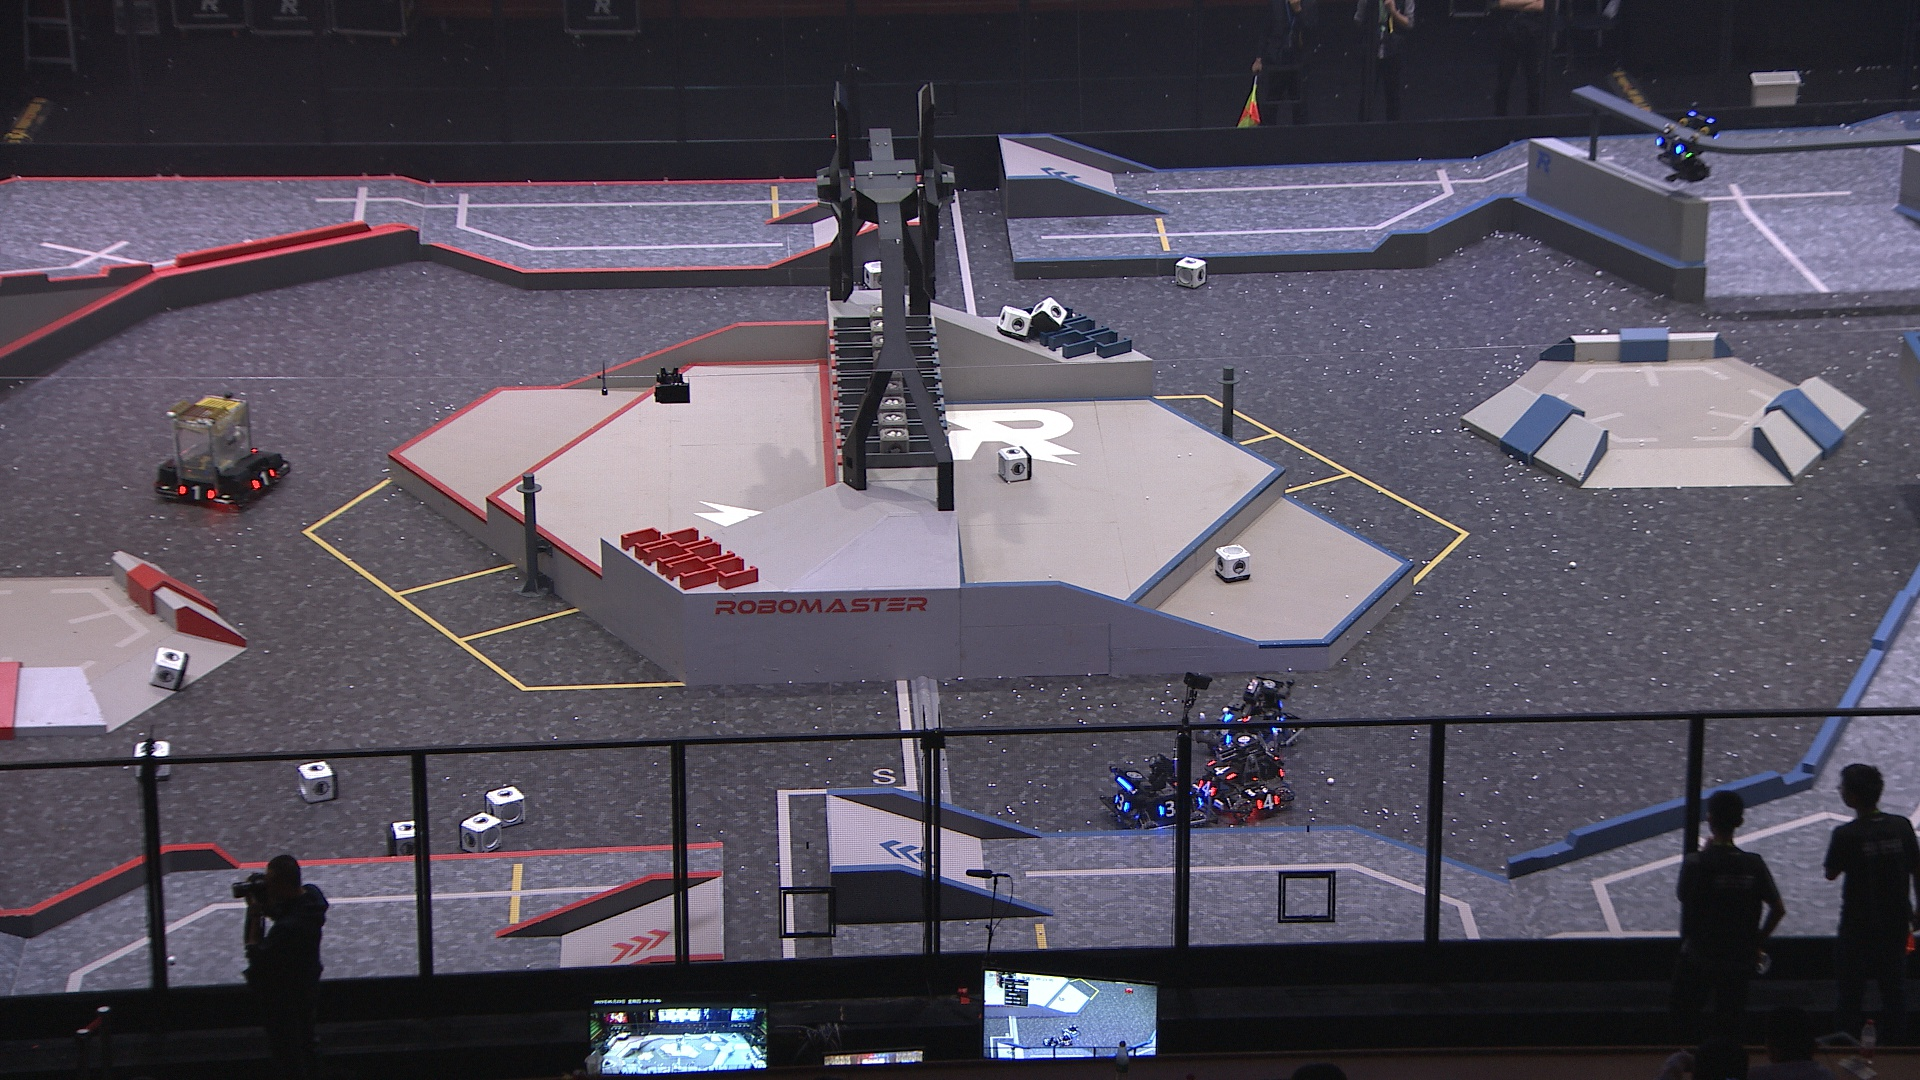armor: (177, 484, 215, 500), (1193, 778, 1220, 800), (251, 467, 278, 488), (1156, 799, 1182, 820), (1207, 760, 1233, 779), (1656, 136, 1683, 156), (1257, 794, 1283, 812), (1269, 716, 1288, 740), (1114, 793, 1130, 815)
car: (154, 396, 295, 510), (1097, 756, 1212, 841), (1195, 727, 1294, 820), (1209, 676, 1305, 756)
watcher: (1654, 109, 1724, 187)
